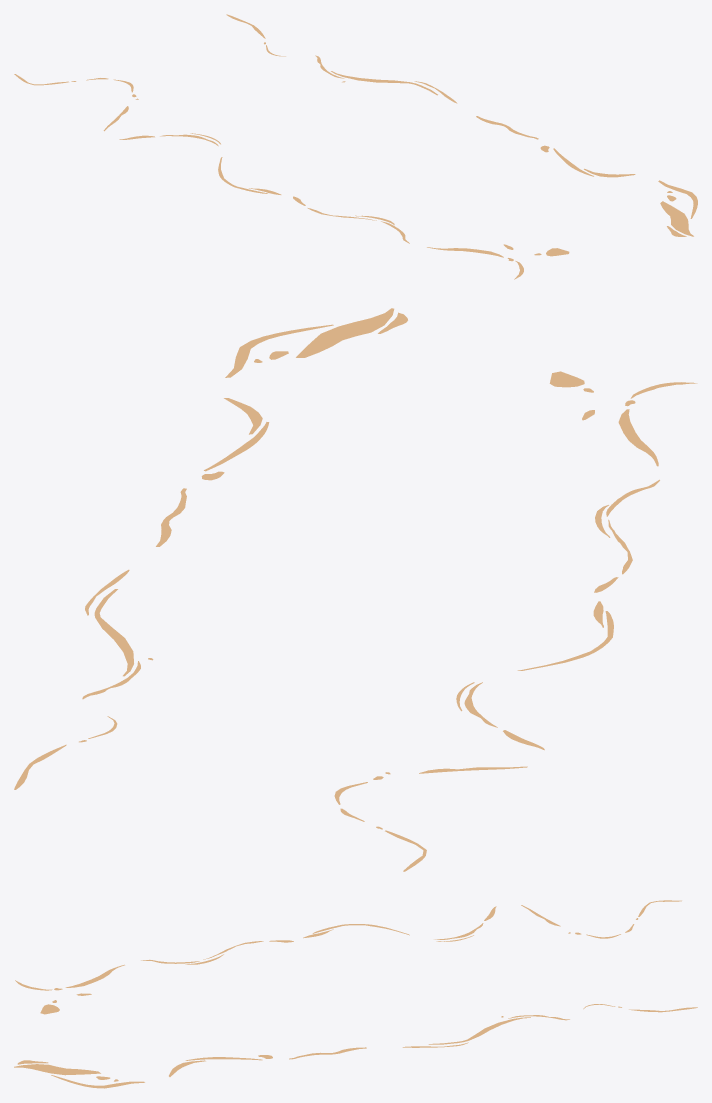
Rendered from Mesh_Battle_Sand_Ground_03.FBX.
The picture shows the model from 3 angles, top to bottom: view 1: azimuth 30°, elevation 25°; view 2: azimuth 150°, elevation 25°; view 3: azimuth 270°, elevation 25°; orthographic projection. The views are drawn at different scales.
Parts seen in each view (by area): view 1: Mesh_Battle_Sand_Ground_03; view 2: Mesh_Battle_Sand_Ground_03; view 3: Mesh_Battle_Sand_Ground_03.
Boxes of the visible parts, left/top/right/bottom form: Mesh_Battle_Sand_Ground_03: left=14, top=14, right=697, bottom=279; Mesh_Battle_Sand_Ground_03: left=14, top=308, right=697, bottom=871; Mesh_Battle_Sand_Ground_03: left=14, top=900, right=697, bottom=1088.
Bounding box in the file's own units: 988 × 0.5669 × 1518.
